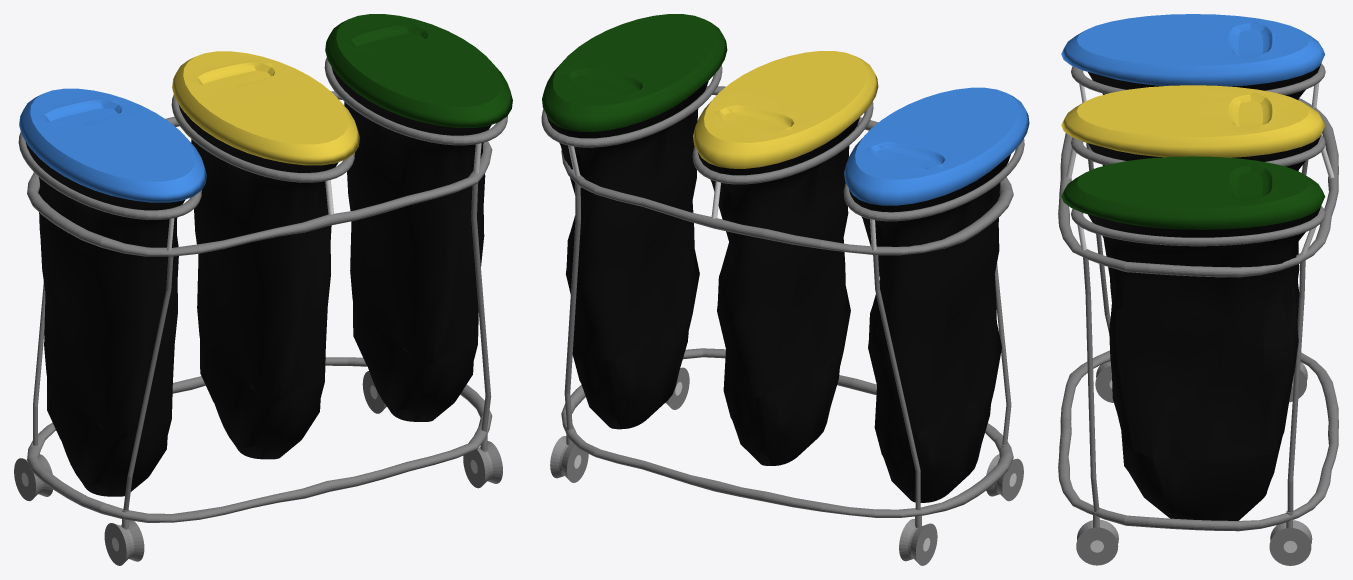
File: bins.fbx
The picture shows the model from 3 angles, left to right: view 1: azimuth 30°, elevation 25°; view 2: azimuth 150°, elevation 25°; view 3: azimuth 270°, elevation 25°; orthographic projection. The views are drawn at different scales.
Parts seen in each view (by area): view 1: Cylinder.003, Cylinder.006, Cylinder, Torus.003, Circle, Cylinder.009, Torus.002, Torus.001, Torus, Cylinder.010; view 2: Cylinder.003, Cylinder.006, Cylinder, Torus.003, Circle, Cylinder.009, Torus, Torus.001, Torus.002, Cylinder.010; view 3: Cylinder.006, Cylinder.003, Cylinder, Torus.003, Circle, Cylinder.010, Torus.002, Torus, Torus.001, Cylinder.009.
Part boxes in pixels (<box>): Cylinder.003: <box>172,51,359,459</box>; Cylinder.006: <box>325,14,512,421</box>; Cylinder: <box>19,88,206,496</box>; Torus.003: <box>27,91,492,522</box>; Circle: <box>14,371,502,565</box>; Cylinder.009: <box>33,256,173,510</box>; Torus.002: <box>324,57,507,145</box>; Torus.001: <box>171,94,354,182</box>; Torus: <box>18,132,201,219</box>; Cylinder.010: <box>471,182,491,431</box>; Cylinder.003: <box>693,51,878,465</box>; Cylinder.006: <box>542,14,727,429</box>; Cylinder: <box>844,87,1029,502</box>; Torus.003: <box>561,86,1013,517</box>; Circle: <box>550,367,1023,565</box>; Cylinder.009: <box>873,255,1011,509</box>; Torus: <box>843,139,1024,221</box>; Torus.001: <box>692,101,873,184</box>; Torus.002: <box>541,64,722,147</box>; Cylinder.010: <box>564,182,580,429</box>; Cylinder.006: <box>1061,156,1325,520</box>; Cylinder.003: <box>1061,85,1324,301</box>; Cylinder: <box>1061,14,1324,171</box>; Torus.003: <box>1058,98,1338,531</box>; Circle: <box>1076,361,1312,565</box>; Cylinder.010: <box>1083,257,1305,513</box>; Torus.002: <box>1071,206,1325,246</box>; Torus: <box>1071,63,1325,95</box>; Torus.001: <box>1071,135,1325,166</box>; Cylinder.009: <box>1086,142,1308,333</box>.
Bounding box in the file's own units: 505 × 436 × 297.
